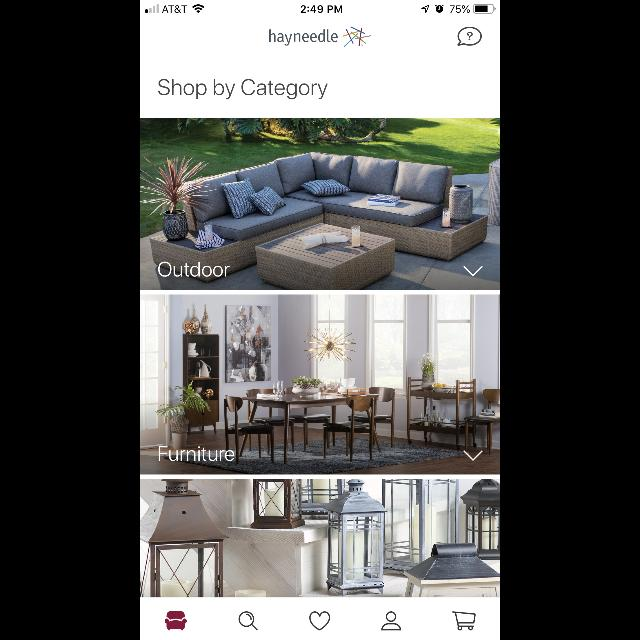icon: (452, 612, 476, 630), (458, 28, 482, 46), (381, 612, 401, 630), (310, 612, 330, 630), (238, 612, 258, 630), (463, 450, 482, 460), (463, 266, 482, 276)
image: (140, 294, 500, 474), (140, 118, 500, 290), (140, 478, 500, 598), (343, 27, 371, 47), (165, 612, 187, 630)
text: (158, 79, 328, 99), (160, 446, 234, 462), (269, 30, 337, 46), (158, 262, 230, 276)
uppertaskbar: (140, 0, 500, 14)
